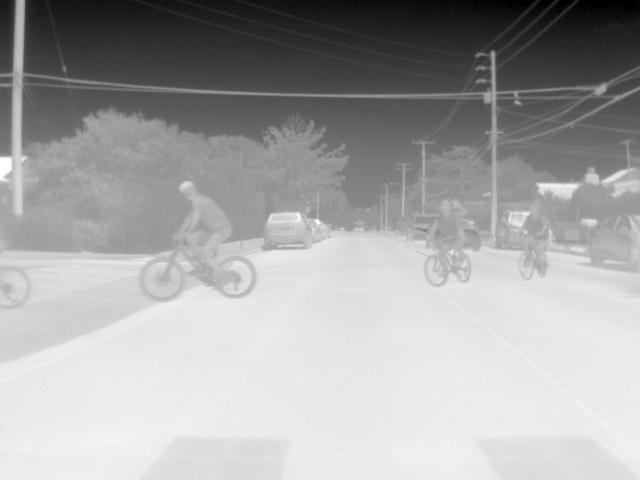car: (586, 213, 640, 268), (262, 212, 314, 249), (495, 209, 530, 249), (407, 212, 439, 243), (309, 216, 333, 237), (308, 220, 323, 242)
person: (173, 178, 237, 283), (427, 197, 470, 270), (520, 205, 546, 267)
